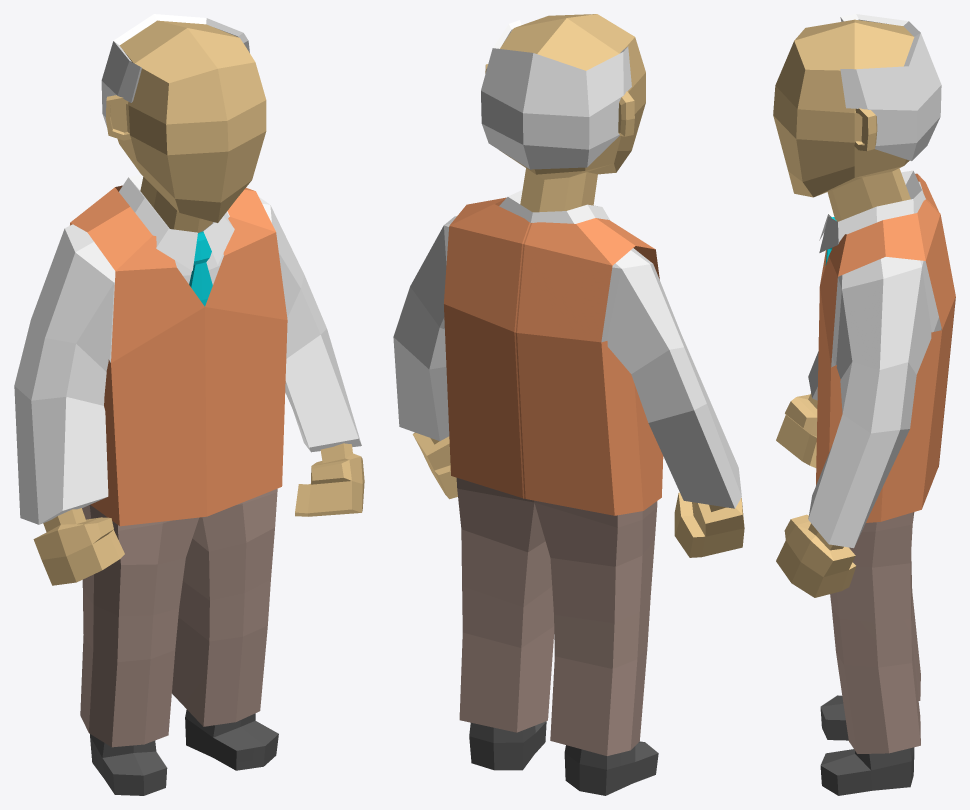
File: Teacher.gltf
3 views of the same model, side by side, from view 1: azimuth 30°, elevation 25°; view 2: azimuth 150°, elevation 25°; view 3: azimuth 270°, elevation 25° (orthographic).
Visible parts, largest first — view 1: node-0; view 2: node-0; view 3: node-0.
Boxes of the visible parts, x1=… form: node-0: x1=14, y1=14, x2=364, y2=795; node-0: x1=393, y1=14, x2=744, y2=795; node-0: x1=773, y1=14, x2=955, y2=795.
Size of the model in its own units: 6.12 by 12.96 by 2.92.
